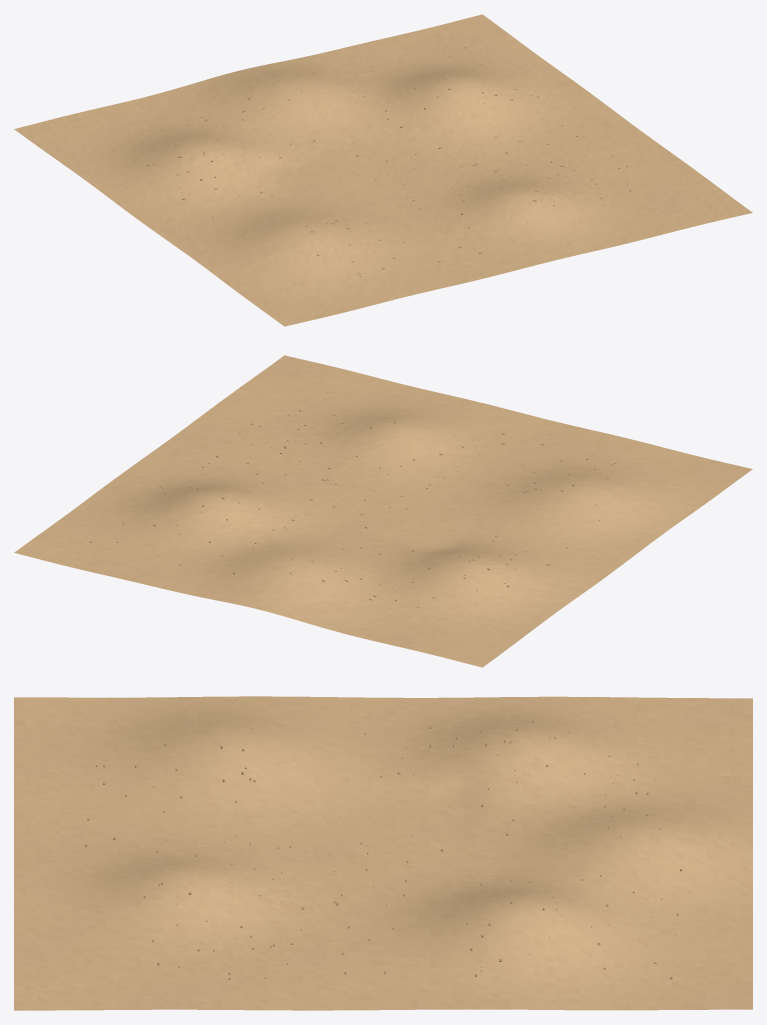
Rendered from terrain.glb.
3 renders of one model, top to bottom at view 1: azimuth 30°, elevation 25°; view 2: azimuth 150°, elevation 25°; view 3: azimuth 270°, elevation 25°, orthographic. The views are drawn at different scales.
Visible parts, largest first — view 1: DesertHeightfield, ScatteredPebbles; view 2: DesertHeightfield, ScatteredPebbles; view 3: DesertHeightfield, ScatteredPebbles.
Part boxes in pixels (<box>): DesertHeightfield: <box>14,14,752,326</box>; ScatteredPebbles: <box>139,47,654,276</box>; DesertHeightfield: <box>14,355,752,667</box>; ScatteredPebbles: <box>89,392,616,618</box>; DesertHeightfield: <box>14,696,752,1010</box>; ScatteredPebbles: <box>85,721,682,979</box>.
Size of what is drawn, in the model's own units: 128 by 5.55 by 128.
